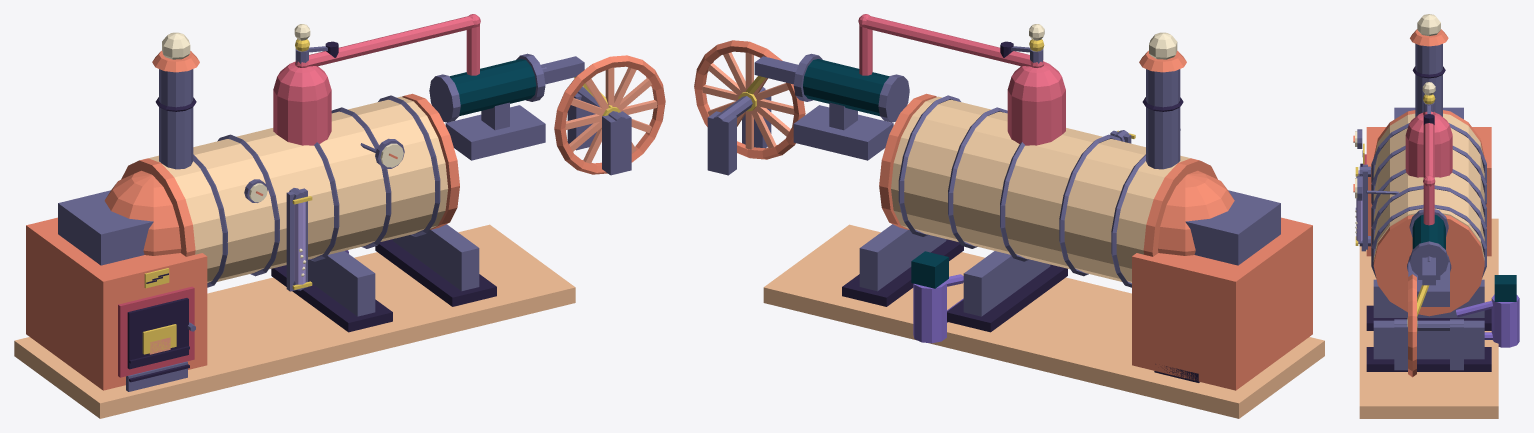
Rendered from chaudiere_vapeur.glb.
3 renders of one model, left to right at view 1: azimuth 30°, elevation 25°; view 2: azimuth 150°, elevation 25°; view 3: azimuth 270°, elevation 25°, orthographic. The views are drawn at different scales.
Visible parts, largest first — view 1: chaudiere_vapeur_steel, chaudiere_vapeur_sand, chaudiere_vapeur_peach, chaudiere_vapeur_coral, chaudiere_vapeur_dark, chaudiere_vapeur_rose, anim_spin_z_volant, chaudiere_vapeur_teal, chaudiere_vapeur_crimson, chaudiere_vapeur_yellow, chaudiere_vapeur_lilac, chaudiere_vapeur_cream (+1 smaller); view 2: chaudiere_vapeur_peach, chaudiere_vapeur_coral, chaudiere_vapeur_steel, chaudiere_vapeur_sand, chaudiere_vapeur_rose, anim_spin_z_volant, chaudiere_vapeur_dark, chaudiere_vapeur_teal, chaudiere_vapeur_violet, anim_puff_c0; view 3: chaudiere_vapeur_steel, chaudiere_vapeur_sand, chaudiere_vapeur_coral, chaudiere_vapeur_peach, chaudiere_vapeur_rose, chaudiere_vapeur_dark, chaudiere_vapeur_violet, chaudiere_vapeur_teal, anim_spin_z_volant, anim_puff_c0, chaudiere_vapeur_yellow, chaudiere_vapeur_lilac.
Boxes of the visible parts, box(x1,y1,x2,y2) form: chaudiere_vapeur_steel: box(58, 46, 631, 391); chaudiere_vapeur_sand: box(14, 224, 575, 418); chaudiere_vapeur_peach: box(148, 96, 448, 282); chaudiere_vapeur_coral: box(26, 50, 459, 390); chaudiere_vapeur_dark: box(127, 41, 496, 382); chaudiere_vapeur_rose: box(273, 14, 480, 145); anim_spin_z_volant: box(554, 55, 665, 174); chaudiere_vapeur_teal: box(449, 59, 536, 115); chaudiere_vapeur_crimson: box(118, 286, 194, 377); chaudiere_vapeur_yellow: box(142, 39, 611, 354); chaudiere_vapeur_lilac: box(294, 202, 305, 284); chaudiere_vapeur_cream: box(249, 143, 403, 202); chaudiere_vapeur_peach: box(891, 96, 1190, 282); chaudiere_vapeur_coral: box(879, 50, 1312, 390); chaudiere_vapeur_steel: box(707, 46, 1280, 316); chaudiere_vapeur_sand: box(763, 224, 1324, 418); chaudiere_vapeur_rose: box(858, 14, 1065, 145); anim_spin_z_volant: box(694, 40, 805, 159); chaudiere_vapeur_dark: box(842, 41, 1199, 382); chaudiere_vapeur_teal: box(803, 59, 948, 288); chaudiere_vapeur_violet: box(913, 274, 963, 343); anim_puff_c0: box(1149, 32, 1177, 59); chaudiere_vapeur_steel: box(1355, 43, 1486, 370); chaudiere_vapeur_sand: box(1359, 218, 1498, 418); chaudiere_vapeur_coral: box(1366, 29, 1491, 316); chaudiere_vapeur_peach: box(1373, 113, 1484, 261); chaudiere_vapeur_rose: box(1405, 111, 1452, 225); chaudiere_vapeur_dark: box(1360, 66, 1491, 371); chaudiere_vapeur_violet: box(1456, 294, 1519, 347); chaudiere_vapeur_teal: box(1412, 214, 1516, 301); anim_spin_z_volant: box(1407, 274, 1417, 377); anim_puff_c0: box(1417, 14, 1440, 36); chaudiere_vapeur_yellow: box(1355, 94, 1435, 316); chaudiere_vapeur_lilac: box(1356, 170, 1362, 243).
Bounding box in the file's own units: 4.02 × 2.09 × 1.2.
